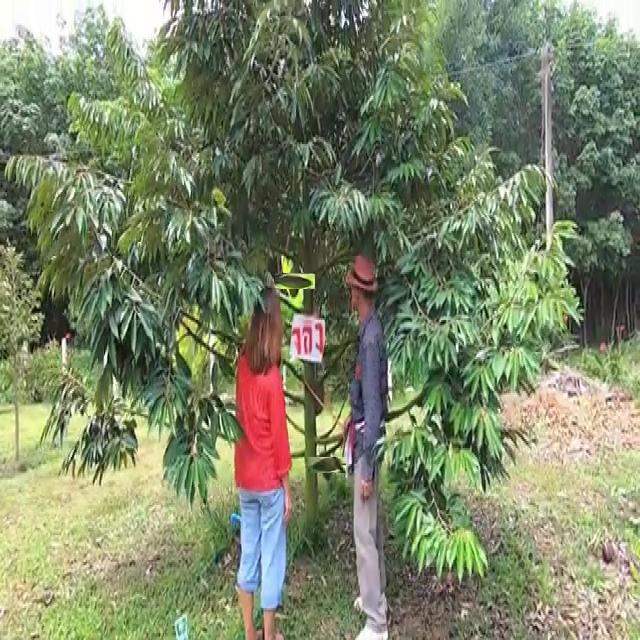durian: (281, 267, 310, 295), (313, 452, 340, 479)
